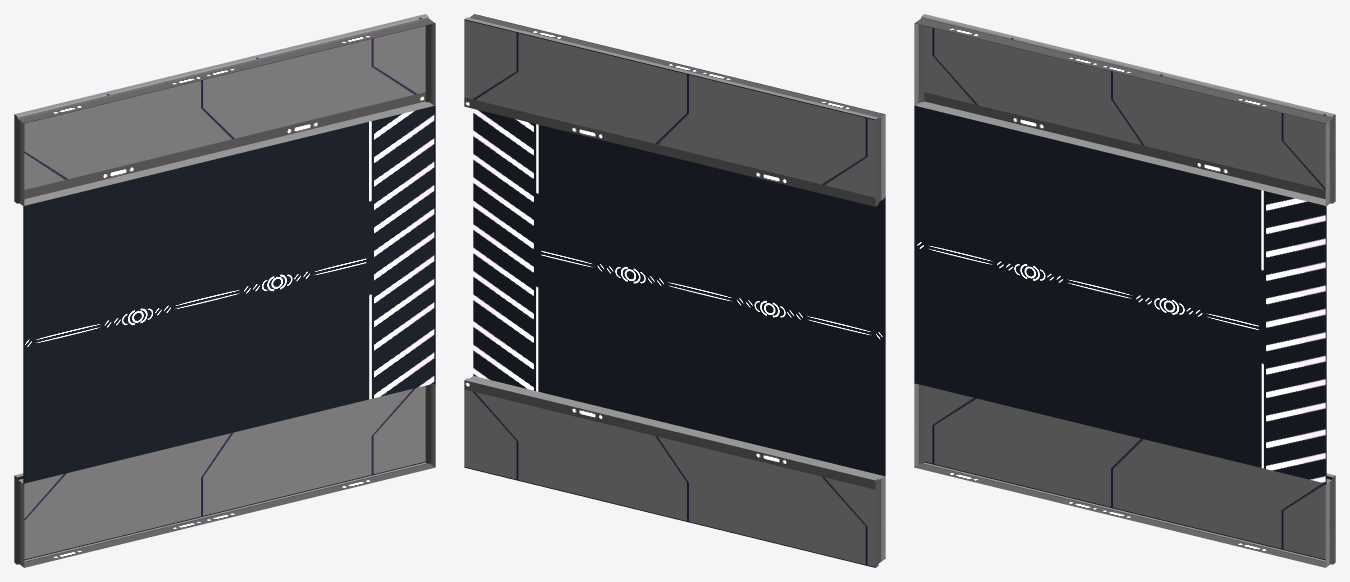
The model's file is SM_S_LineRoad.fbx.
The picture shows the model from 3 angles, left to right: view 1: azimuth 30°, elevation 25°; view 2: azimuth 150°, elevation 25°; view 3: azimuth 330°, elevation 25°; orthographic projection.
Visible parts, largest first — view 1: SM_S_LineRoad; view 2: SM_S_LineRoad; view 3: SM_S_LineRoad.
Boxes of the visible parts, x1,y1,x2,y2 form: SM_S_LineRoad: (14, 14, 435, 567); SM_S_LineRoad: (464, 14, 885, 567); SM_S_LineRoad: (914, 14, 1335, 567).
Size of the model in its own units: 2833 by 2953 by 119.
